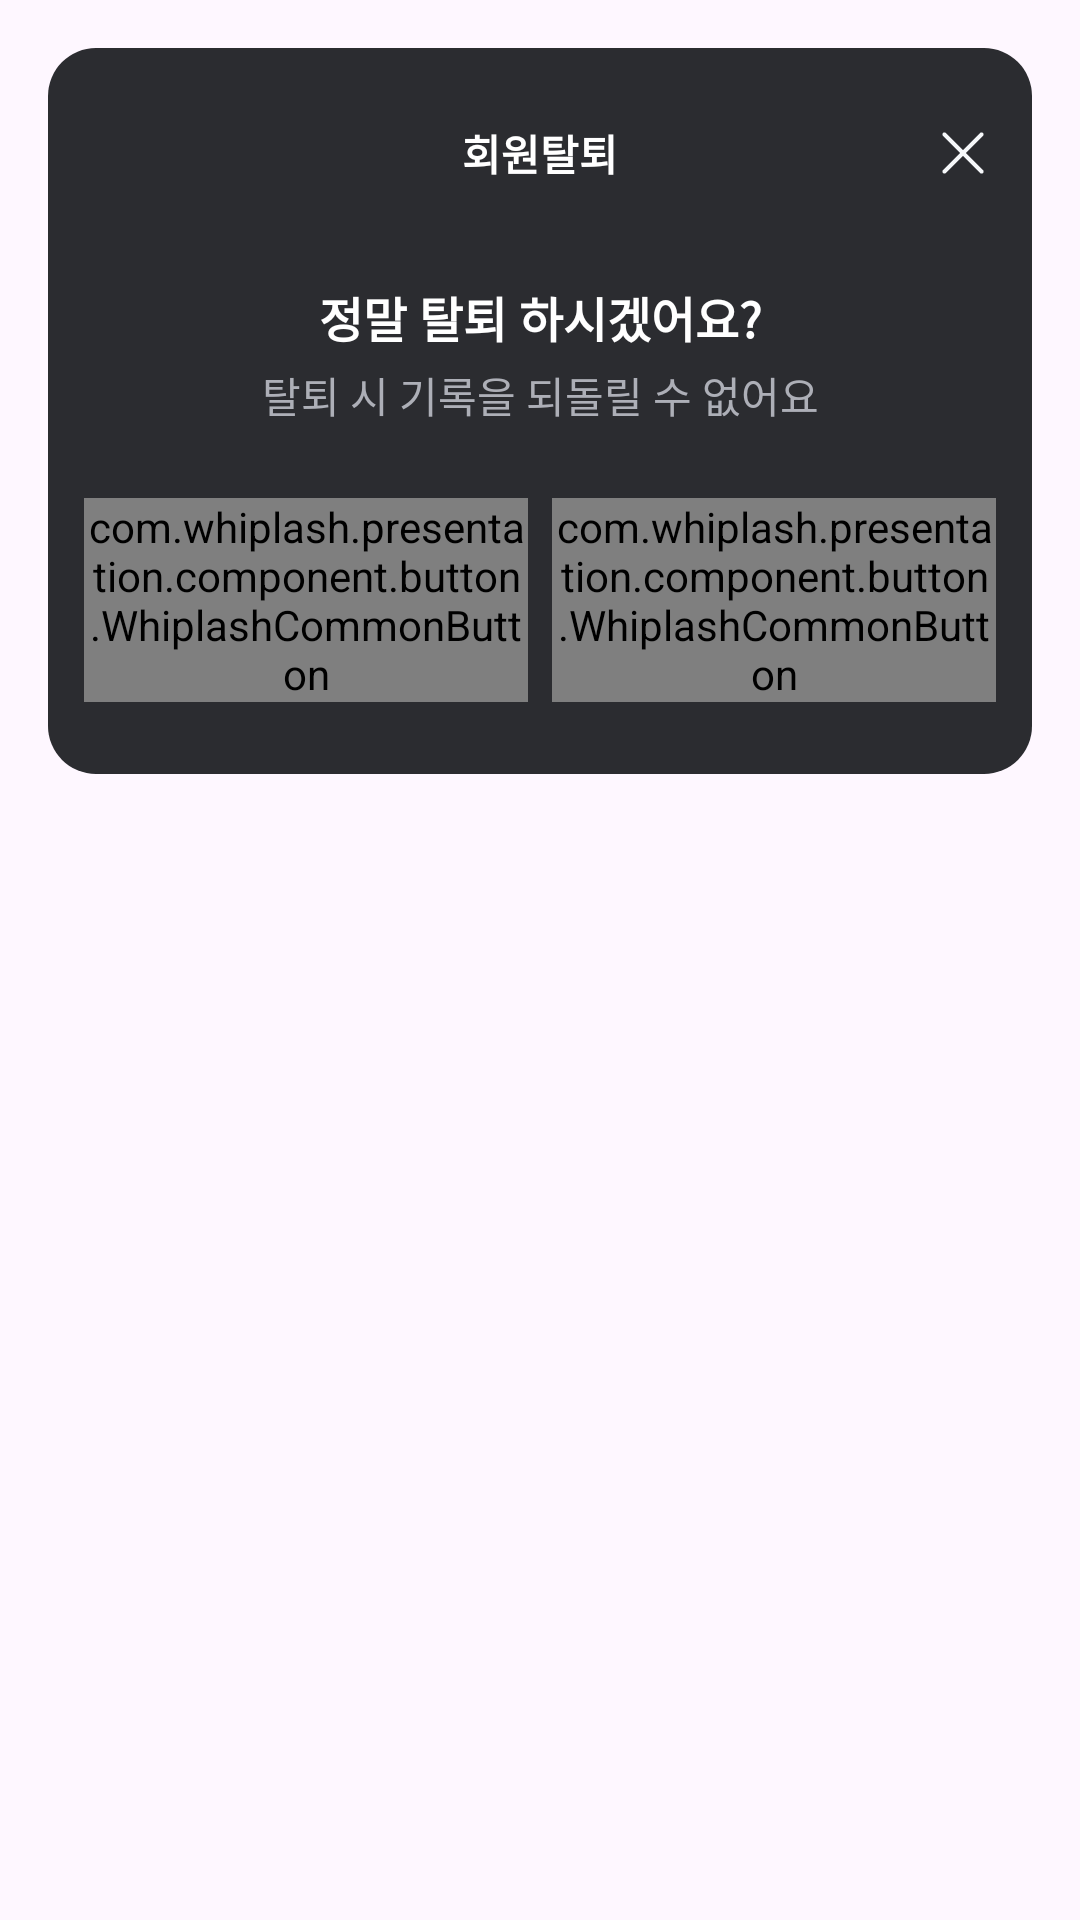

Screen size 1080w x 1920h. Icon name, then its center in pixels as point (x, y):
dismiss: point (963, 153)
